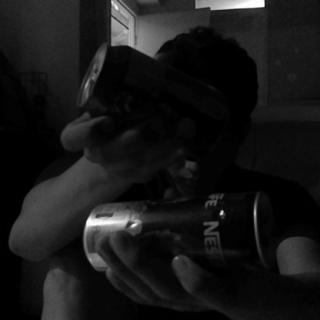alumunium_can: (84, 187, 276, 275)
